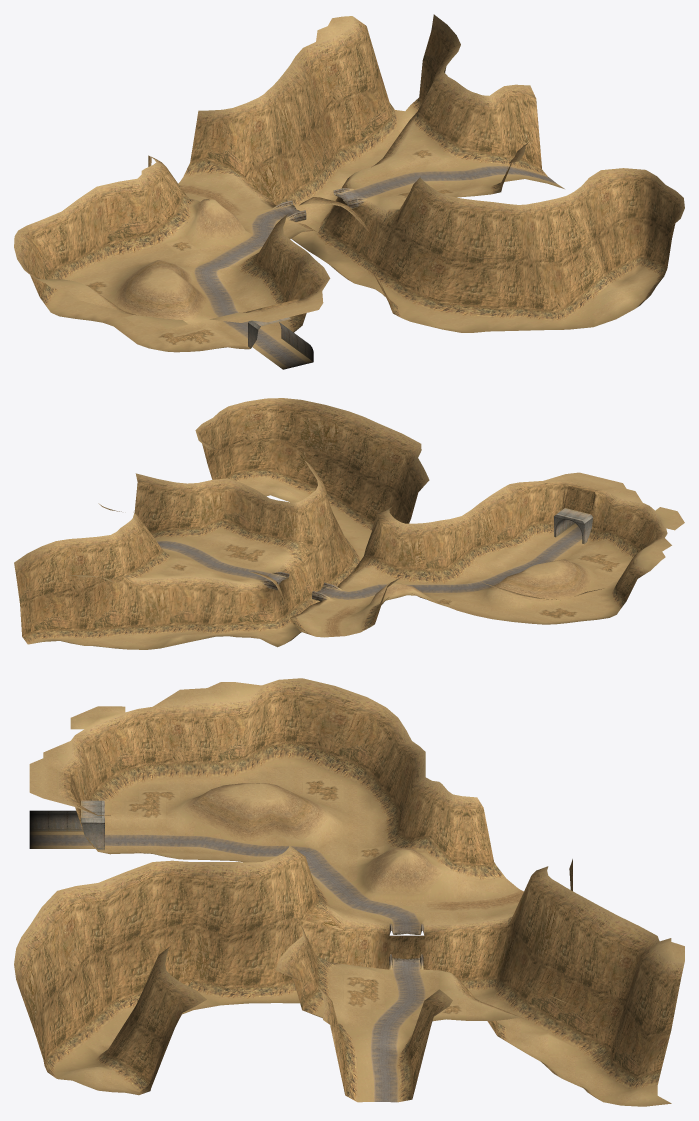
Rendered from Mission5_Zone01.glb.
3 renders of one model, top to bottom at view 1: azimuth 30°, elevation 25°; view 2: azimuth 150°, elevation 25°; view 3: azimuth 270°, elevation 25°, orthographic. The views are drawn at different scales.
Parts seen in each view (by area): view 1: MISSION5_ZONE01114, MISSION5_ZONE01437, MISSION5_ZONE01121, MISSION5_ZONE01120, MISSION5_ZONE01139, MISSION5_ZONE01090, MISSION5_ZONE01315, MISSION5_ZONE01115, MISSION5_ZONE01391, MISSION5_ZONE01089, MISSION5_ZONE01161, MISSION5_ZONE01179 (+58 smaller); view 2: MISSION5_ZONE01424, MISSION5_ZONE01024, MISSION5_ZONE01008, MISSION5_ZONE01046, MISSION5_ZONE01434, MISSION5_ZONE01019, MISSION5_ZONE01442, MISSION5_ZONE01412, MISSION5_ZONE01413, MISSION5_ZONE01007, MISSION5_ZONE01363, MISSION5_ZONE01252 (+68 smaller); view 3: MISSION5_ZONE01060, MISSION5_ZONE01135, MISSION5_ZONE01157, MISSION5_ZONE01177, MISSION5_ZONE01428, MISSION5_ZONE01176, MISSION5_ZONE01084, MISSION5_ZONE01417, MISSION5_ZONE01196, MISSION5_ZONE01448, MISSION5_ZONE01203, MISSION5_ZONE01418 (+88 smaller).
Part boxes in pixels (box(x1,y1,x2,y2)): MISSION5_ZONE01114: box(468, 212, 510, 308); MISSION5_ZONE01437: box(312, 55, 349, 147); MISSION5_ZONE01121: box(618, 170, 653, 258); MISSION5_ZONE01120: box(598, 180, 633, 270); MISSION5_ZONE01139: box(438, 211, 474, 305); MISSION5_ZONE01090: box(531, 211, 561, 310); MISSION5_ZONE01315: box(119, 174, 162, 246); MISSION5_ZONE01115: box(496, 204, 531, 264); MISSION5_ZONE01391: box(245, 110, 272, 200); MISSION5_ZONE01089: box(511, 260, 539, 318); MISSION5_ZONE01161: box(433, 196, 473, 260); MISSION5_ZONE01179: box(392, 202, 432, 294); MISSION5_ZONE01424: box(59, 548, 92, 629); MISSION5_ZONE01024: box(250, 407, 282, 477); MISSION5_ZONE01008: box(292, 400, 325, 477); MISSION5_ZONE01046: box(224, 402, 250, 480); MISSION5_ZONE01434: box(29, 541, 63, 628); MISSION5_ZONE01019: box(338, 431, 372, 511); MISSION5_ZONE01442: box(29, 559, 51, 639); MISSION5_ZONE01412: box(107, 576, 131, 635); MISSION5_ZONE01413: box(86, 543, 122, 586); MISSION5_ZONE01007: box(317, 405, 348, 460); MISSION5_ZONE01363: box(224, 583, 256, 631); MISSION5_ZONE01252: box(167, 482, 198, 529); MISSION5_ZONE01060: box(88, 883, 129, 1004); MISSION5_ZONE01135: box(171, 860, 212, 978); MISSION5_ZONE01157: box(191, 862, 234, 937); MISSION5_ZONE01177: box(223, 923, 274, 998); MISSION5_ZONE01428: box(584, 938, 624, 1042); MISSION5_ZONE01176: box(228, 862, 269, 937); MISSION5_ZONE01084: box(128, 878, 151, 992); MISSION5_ZONE01417: box(545, 903, 594, 979); MISSION5_ZONE01196: box(252, 856, 288, 931); MISSION5_ZONE01448: box(637, 980, 680, 1088); MISSION5_ZONE01203: box(289, 697, 328, 767); MISSION5_ZONE01418: box(548, 921, 600, 1034).
Bounding box in the file's own units: 227 × 41.27 × 197.
Materials: 29 (29 with a texture image).
